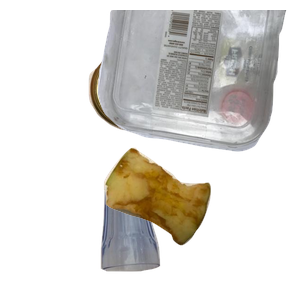glass: (98, 168, 251, 300)
metal: (86, 46, 248, 169)
plastic: (95, 10, 300, 154)
trash: (101, 145, 300, 300)
